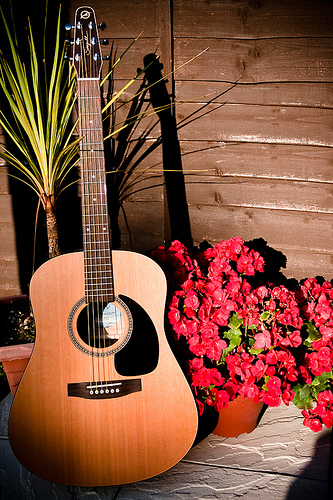guitar: (12, 7, 199, 488)
